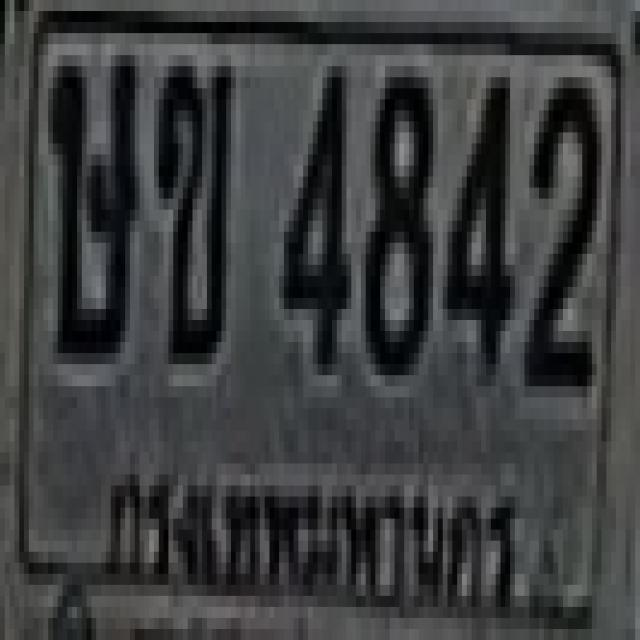-: (46, 44, 137, 353), (154, 55, 231, 353)
2: (522, 72, 594, 380)
4: (279, 55, 347, 364), (443, 66, 505, 364)
8: (361, 66, 428, 364)
BKK: (103, 440, 527, 634)
